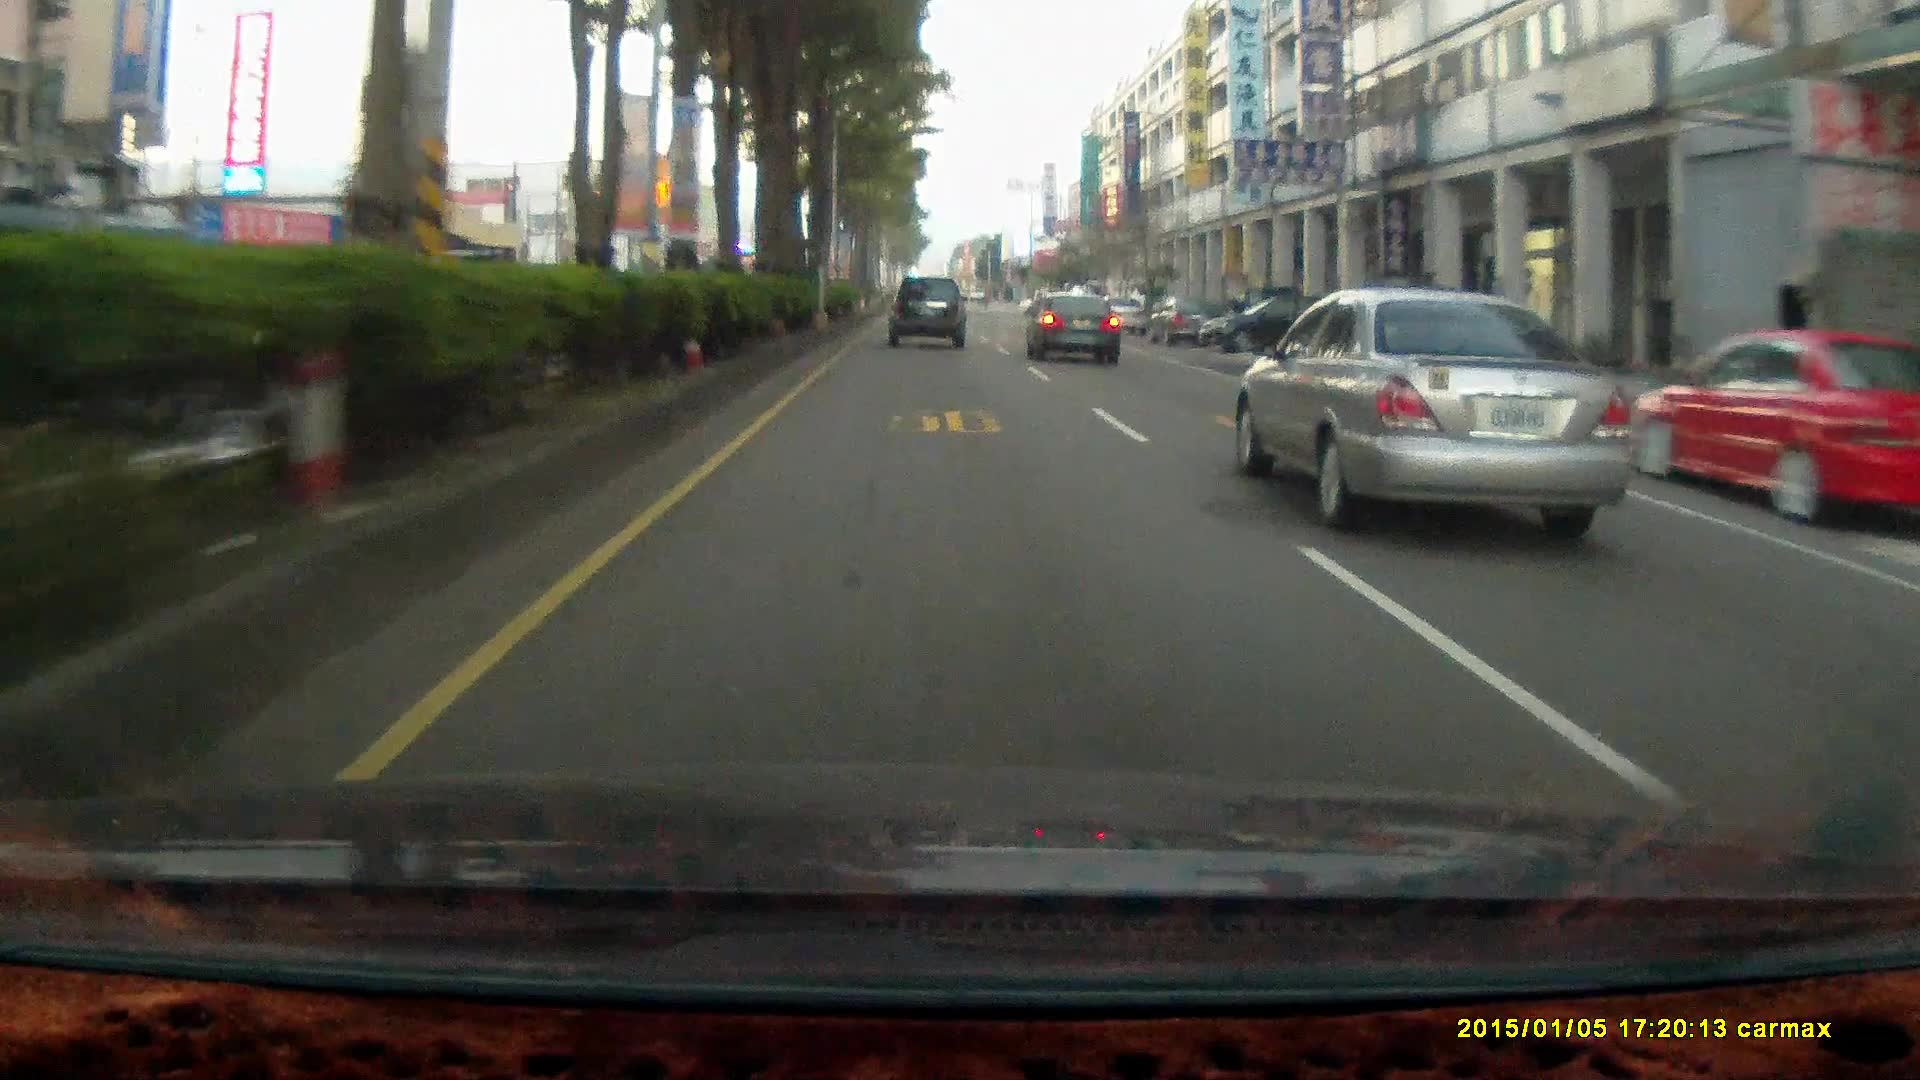vehicle: (1226, 286, 1651, 538), (1625, 327, 1920, 525), (1636, 328, 1920, 529), (1197, 294, 1357, 356), (1025, 290, 1120, 365), (1027, 293, 1125, 365), (886, 277, 971, 351), (885, 276, 968, 347), (1145, 295, 1220, 347), (1098, 291, 1147, 334)
